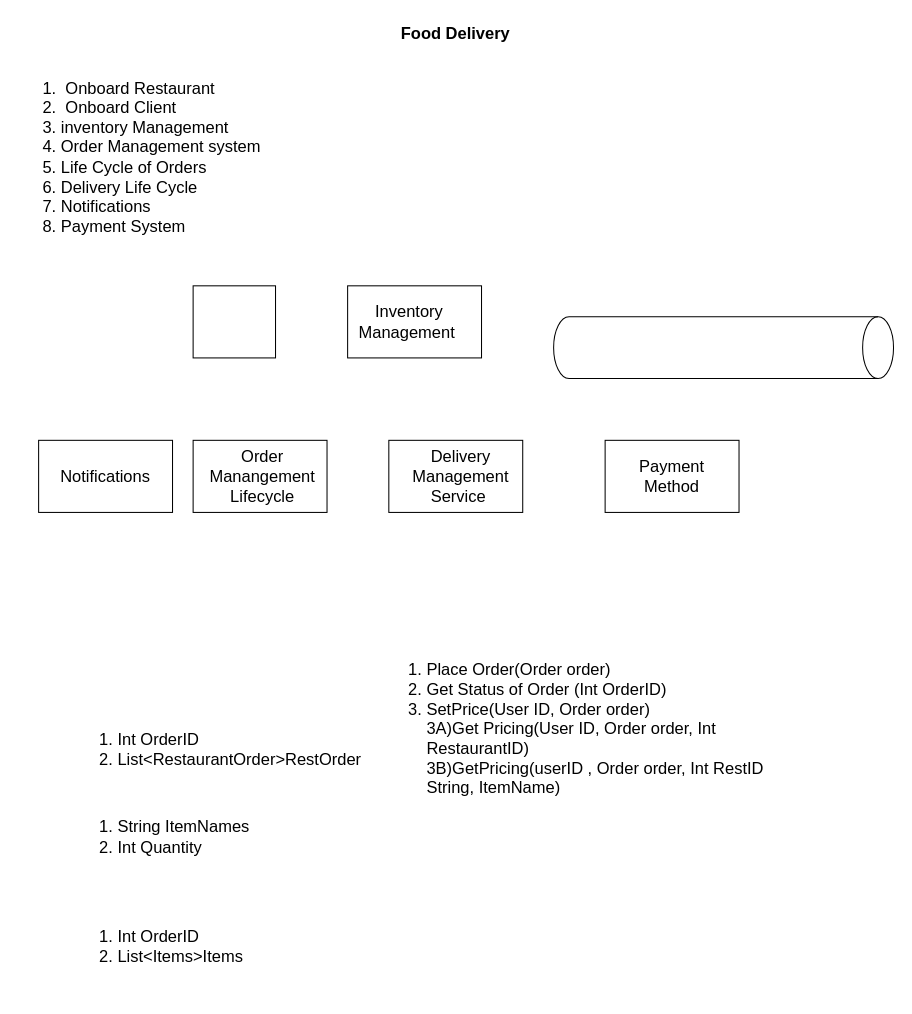
Some shapes in this 912 by 1014 pixel diagram are drawn without their labels. Here are the shapes that lost their labels. From the top down, the centre of each, then its label:
At point (234, 321): "User Service".
At point (723, 347): "Distributed queue".
